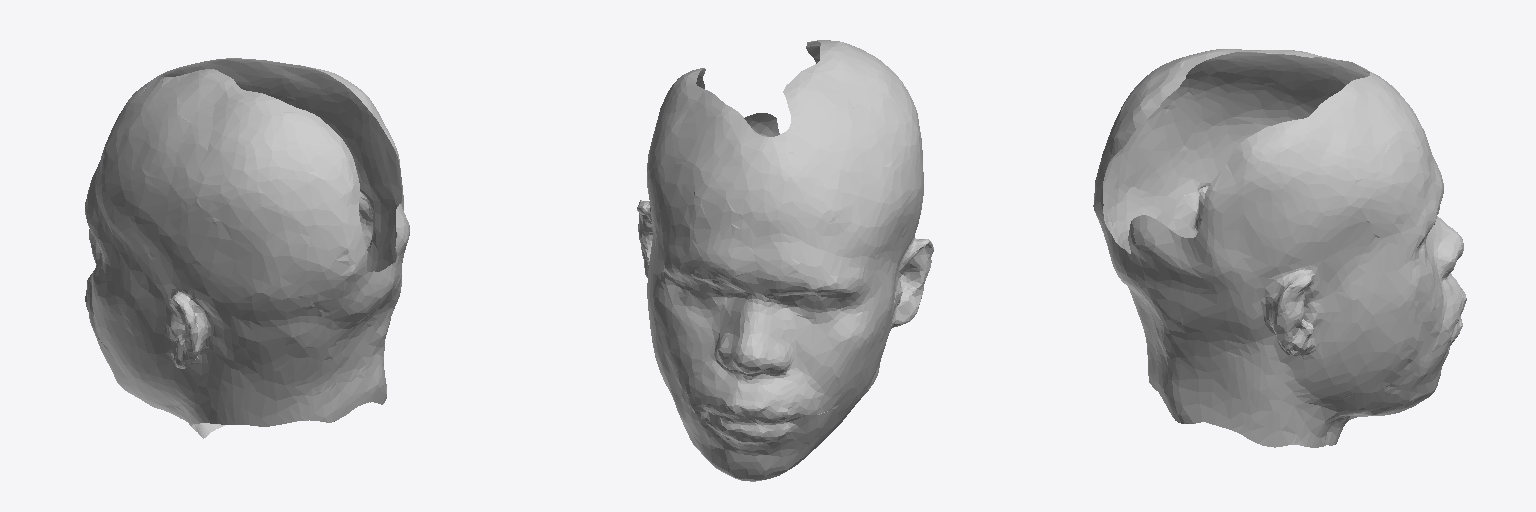
The model's file is BUSTO.obj.
The picture shows the model from 3 angles: view 1: azimuth 30°, elevation 25°; view 2: azimuth 150°, elevation 25°; view 3: azimuth 270°, elevation 25°; orthographic projection.
Visible parts, largest first — view 1: Scan_61_PP; view 2: Scan_61_PP; view 3: Scan_61_PP.
Part boxes in pixels (x1,y1,x2,y2): Scan_61_PP: (85, 58, 409, 438); Scan_61_PP: (637, 40, 933, 481); Scan_61_PP: (1093, 49, 1466, 447).
Bounding box in the file's own units: 3.28 × 4.64 × 4.14.